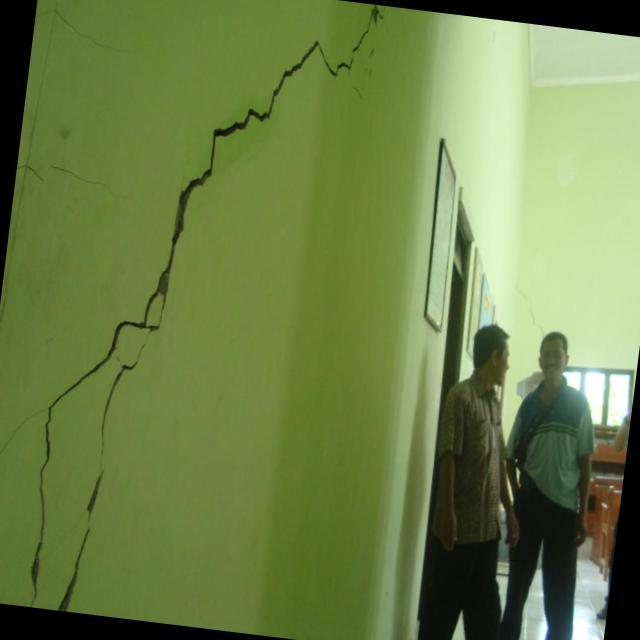crack: (28, 4, 389, 610)
